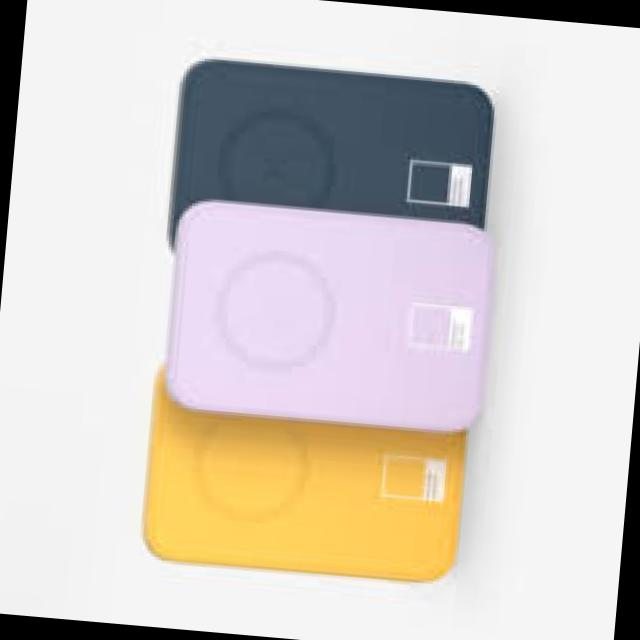portable-charger: (160, 195, 502, 438), (162, 52, 503, 278), (134, 362, 469, 587)
